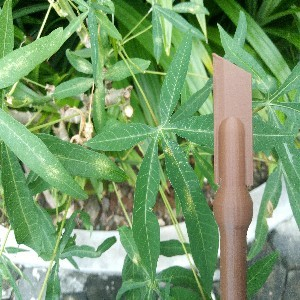cutter: (211, 51, 254, 300)
